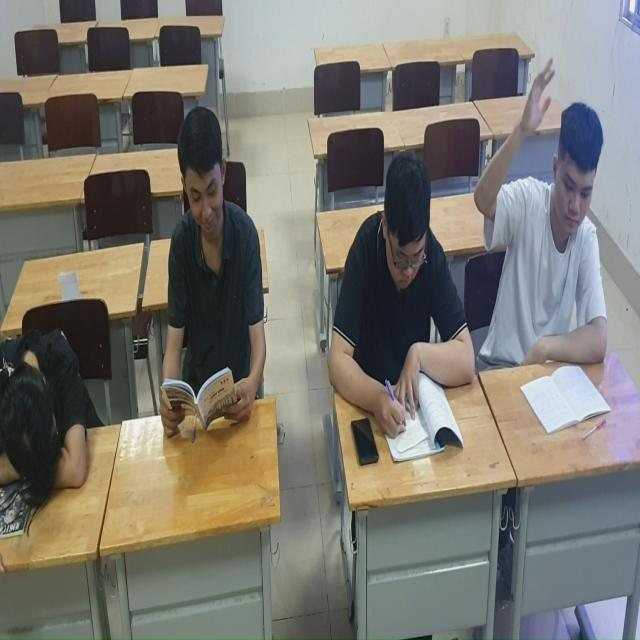raise_hand: (472, 19, 636, 420)
read: (155, 86, 283, 470), (331, 139, 479, 456)
sleep: (1, 295, 101, 524)
